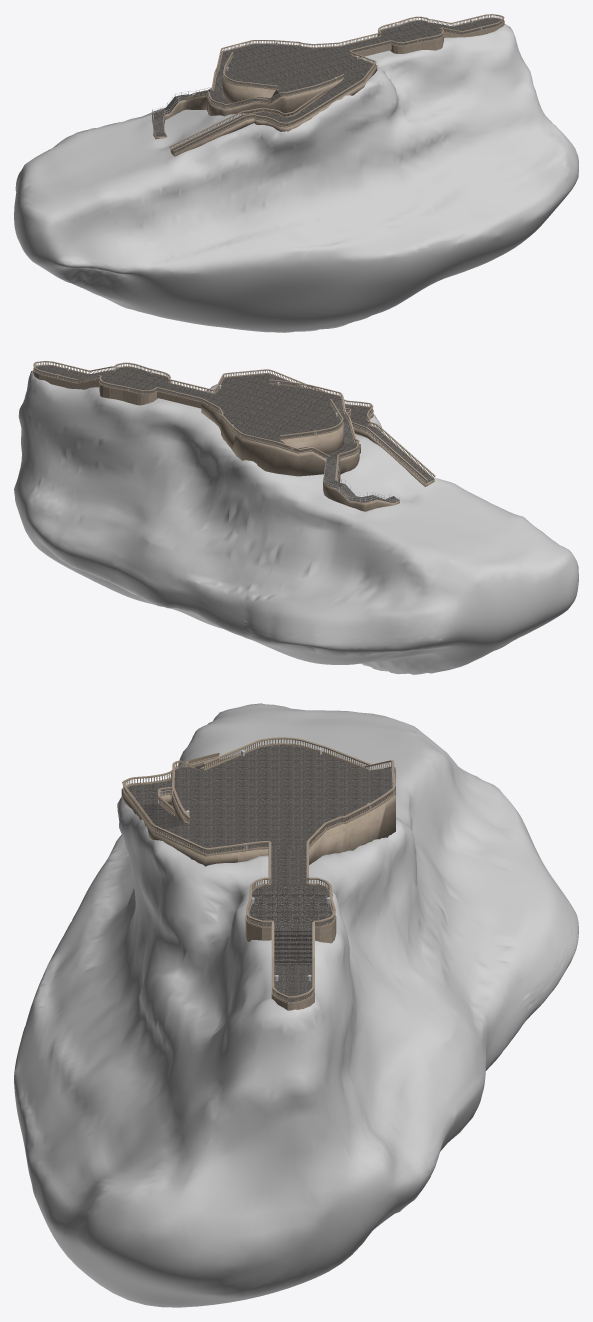
Rendered from Cristo.fbx.
3 renders of one model, top to bottom at view 1: azimuth 30°, elevation 25°; view 2: azimuth 150°, elevation 25°; view 3: azimuth 270°, elevation 25°, orthographic. The views are drawn at different scales.
Parts seen in each view (by area): view 1: Terrain, Base 1, Rails, Base 3, Base 4, Base 2; view 2: Terrain, Base 1, Rails, Base 3, Base 4, Base 2, Handrail; view 3: Terrain, Base 1, Rails, Base 3, Base 4, Stair, Base 2.
Part boxes in pixels (x1,y1,x2,y2): Terrain: [14, 24, 578, 332]; Base 1: [152, 44, 377, 156]; Rails: [169, 14, 504, 154]; Base 3: [377, 21, 443, 53]; Base 4: [431, 18, 504, 37]; Base 2: [340, 36, 391, 57]; Terrain: [14, 370, 578, 674]; Base 1: [201, 374, 434, 511]; Rails: [33, 361, 435, 483]; Base 3: [99, 367, 170, 405]; Base 4: [33, 366, 109, 389]; Base 2: [157, 382, 211, 408]; Handrail: [323, 410, 425, 502]; Terrain: [14, 703, 578, 1307]; Base 1: [121, 745, 395, 866]; Rails: [122, 737, 395, 1004]; Base 3: [245, 885, 336, 943]; Base 4: [271, 965, 314, 1010]; Stair: [274, 928, 312, 965]; Base 2: [268, 849, 308, 885].
Size of the model in its own units: 27858 by 11928 by 14574.
